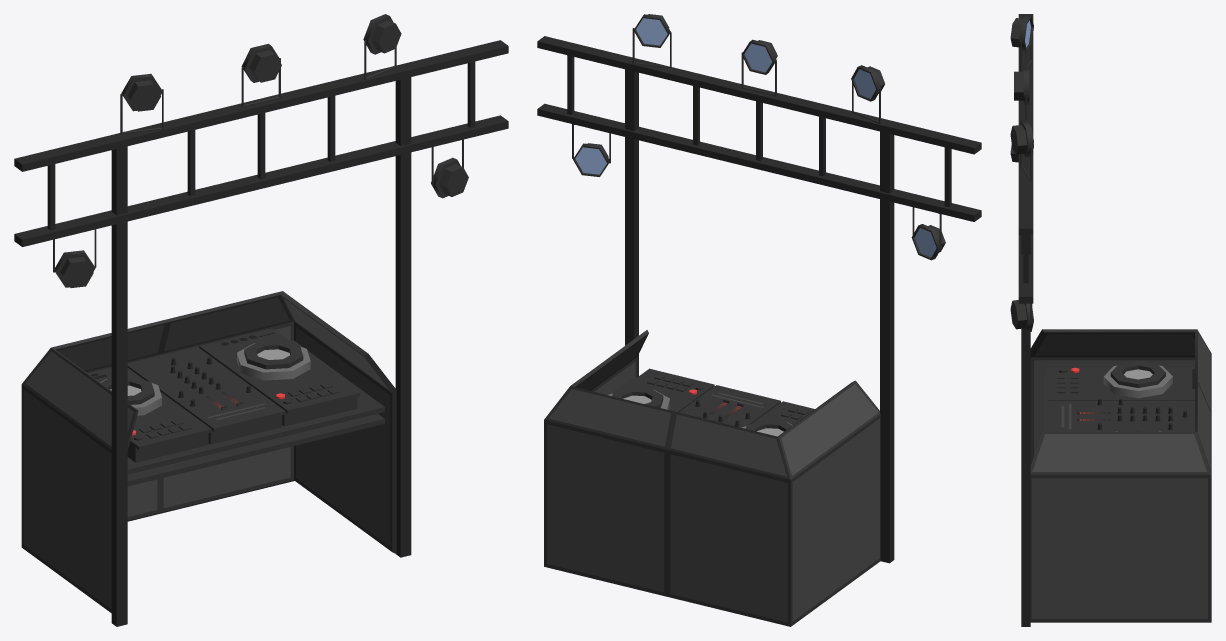
The model's file is DJBooth.fbx.
3 views of the same model, side by side, from view 1: azimuth 30°, elevation 25°; view 2: azimuth 150°, elevation 25°; view 3: azimuth 270°, elevation 25° (orthographic). The views are drawn at different scales.
Visible parts, largest first — view 1: DJBooth; view 2: DJBooth; view 3: DJBooth.
Boxes of the visible parts, left/top/right/bottom form: DJBooth: left=14, top=14, right=508, bottom=626; DJBooth: left=537, top=14, right=981, bottom=626; DJBooth: left=1010, top=14, right=1211, bottom=626.
Bounding box in the file's own units: 3.39 × 3.61 × 1.34.
Materials: 1 (1 with a texture image).
